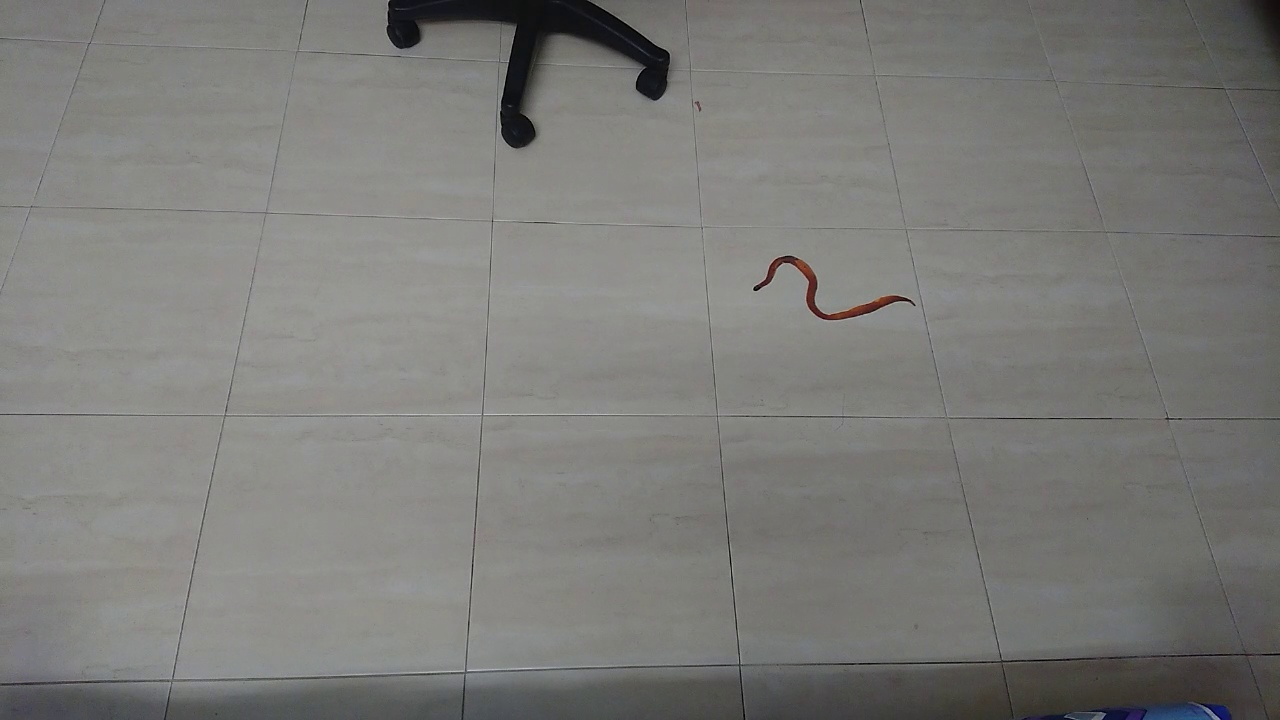snake: (724, 239, 931, 336)
